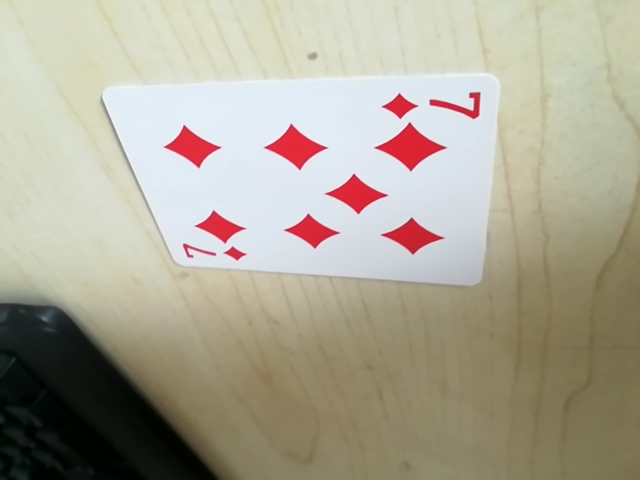fk 7: (381, 86, 485, 124), (173, 239, 248, 270)
